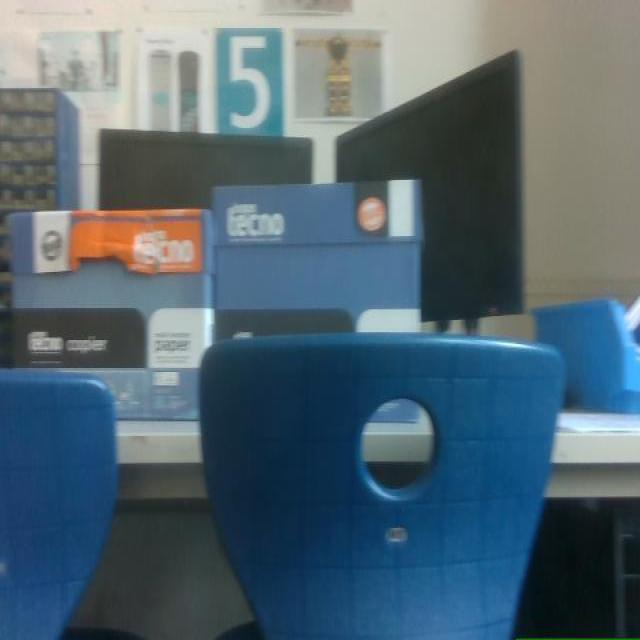objects: (201, 334, 563, 639), (0, 370, 133, 639)
